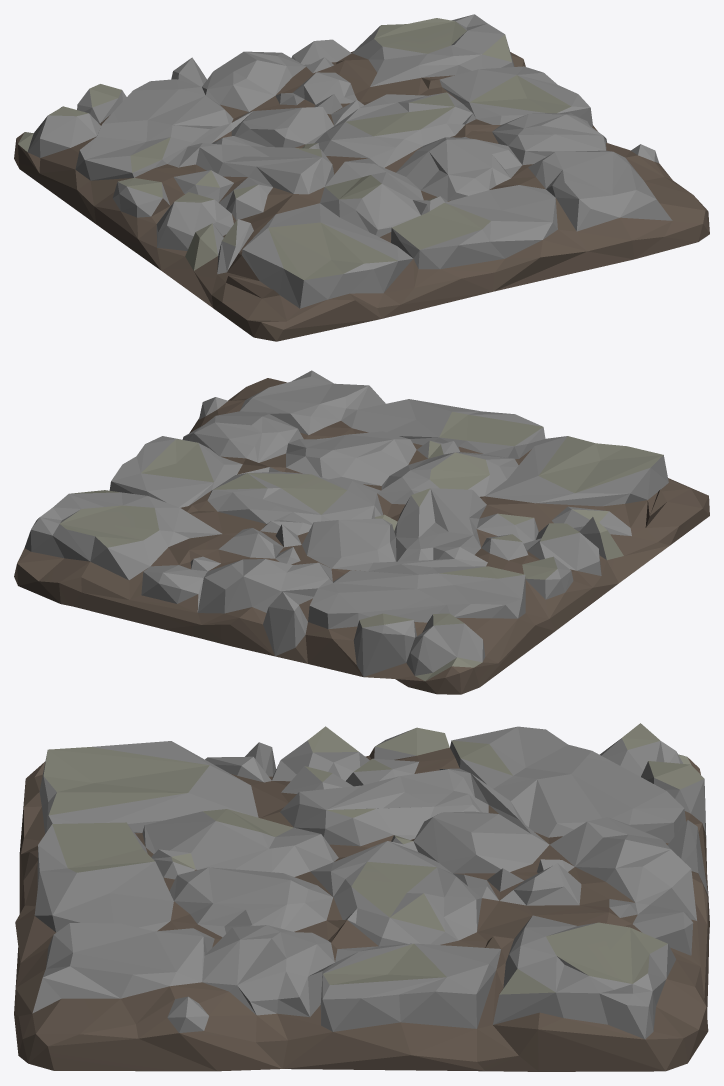
The model's file is floor.fbx.
3 views of the same model, one above another, from view 1: azimuth 30°, elevation 25°; view 2: azimuth 150°, elevation 25°; view 3: azimuth 270°, elevation 25° (orthographic). The views are drawn at different scales.
Parts seen in each view (by area): view 1: Medieval_StoneFloor_Tile_LOD0; view 2: Medieval_StoneFloor_Tile_LOD0; view 3: Medieval_StoneFloor_Tile_LOD0.
Boxes of the visible parts, x1=… form: Medieval_StoneFloor_Tile_LOD0: x1=14, y1=14, x2=709, y2=341; Medieval_StoneFloor_Tile_LOD0: x1=14, y1=370, x2=709, y2=694; Medieval_StoneFloor_Tile_LOD0: x1=14, y1=723, x2=709, y2=1071.
Size of what is drawn, in the model's own units: 300 by 39.46 by 301.
